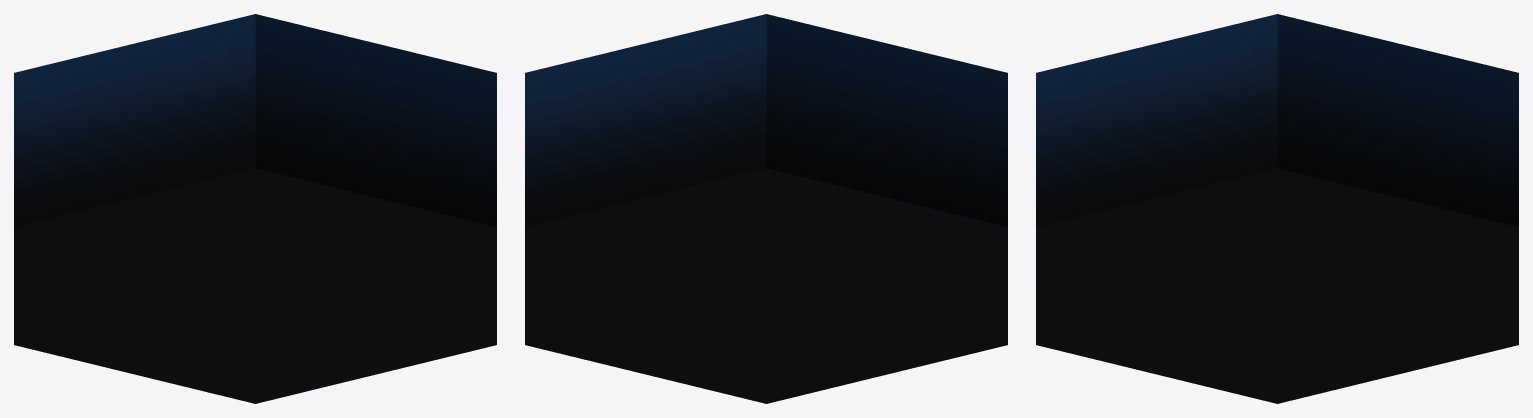
The model's file is vrcorn.glb.
The picture shows the model from 3 angles, left to right: view 1: azimuth 30°, elevation 25°; view 2: azimuth 150°, elevation 25°; view 3: azimuth 270°, elevation 25°; orthographic projection.
Parts seen in each view (by area): view 1: polygon0; view 2: polygon0; view 3: polygon0.
Boxes of the visible parts, box(x1,y1,x2,y2) form: polygon0: box(14, 14, 496, 403); polygon0: box(525, 14, 1007, 403); polygon0: box(1036, 14, 1518, 403).
Size of the model in its own units: 2414 by 738 by 2090.
1 material, 1 textured.
